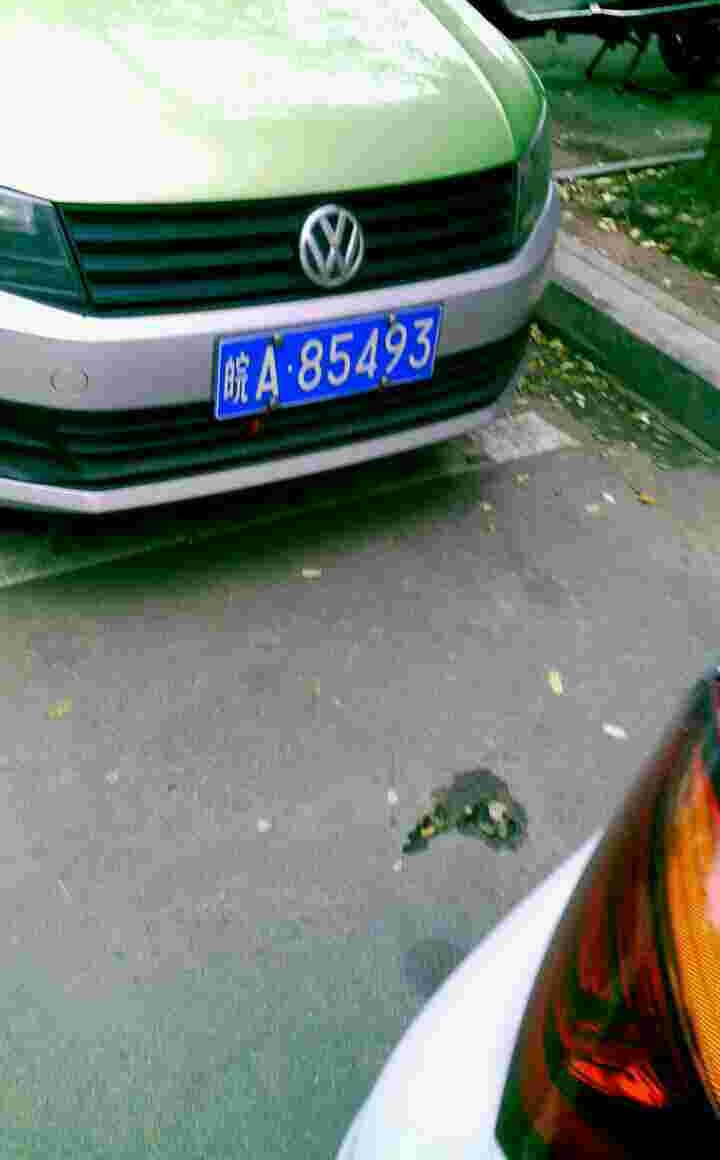license_plate: (197, 315, 449, 404)
